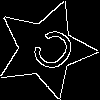C: (21, 24, 80, 83)
